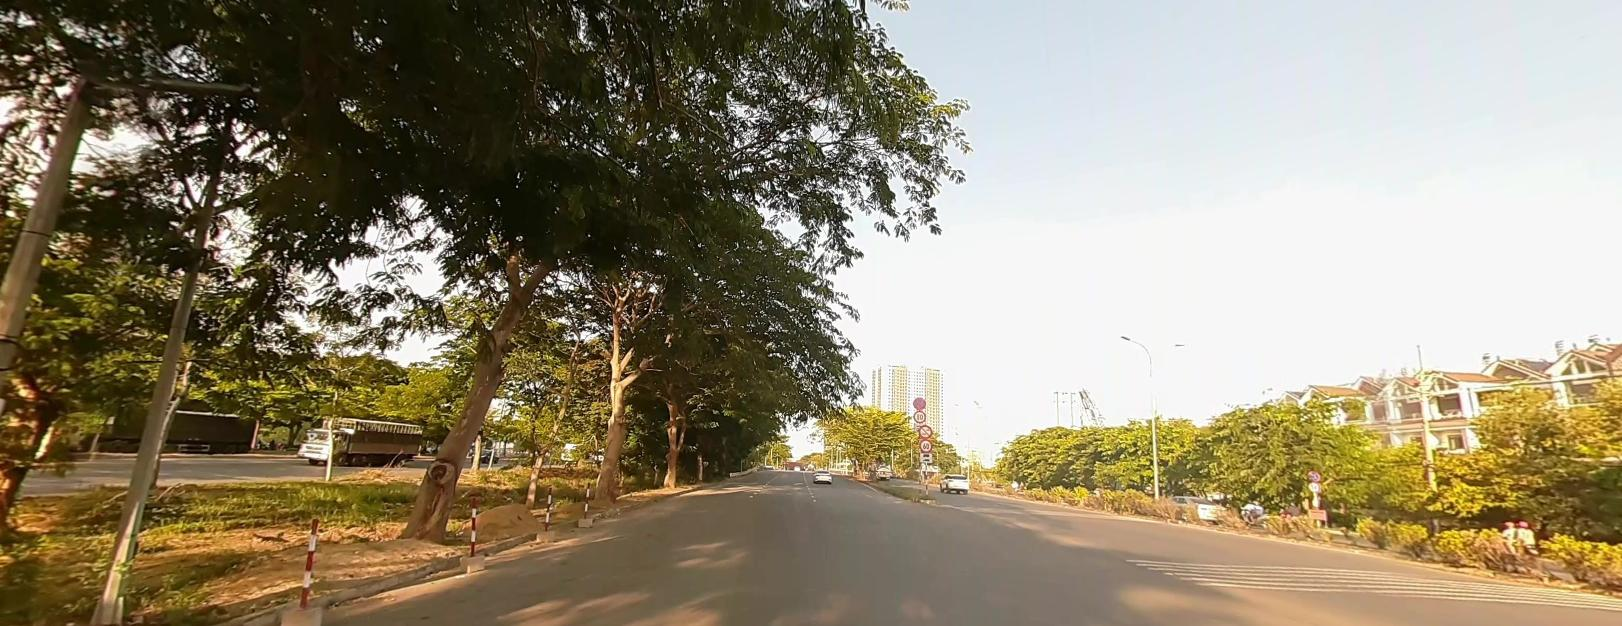Cam con lai: (918, 423, 932, 437), (1306, 481, 1320, 491)
Cam dung va do: (912, 395, 925, 408), (1306, 469, 1319, 480)
Gioi han toc do: (919, 438, 932, 450), (913, 409, 926, 421)
